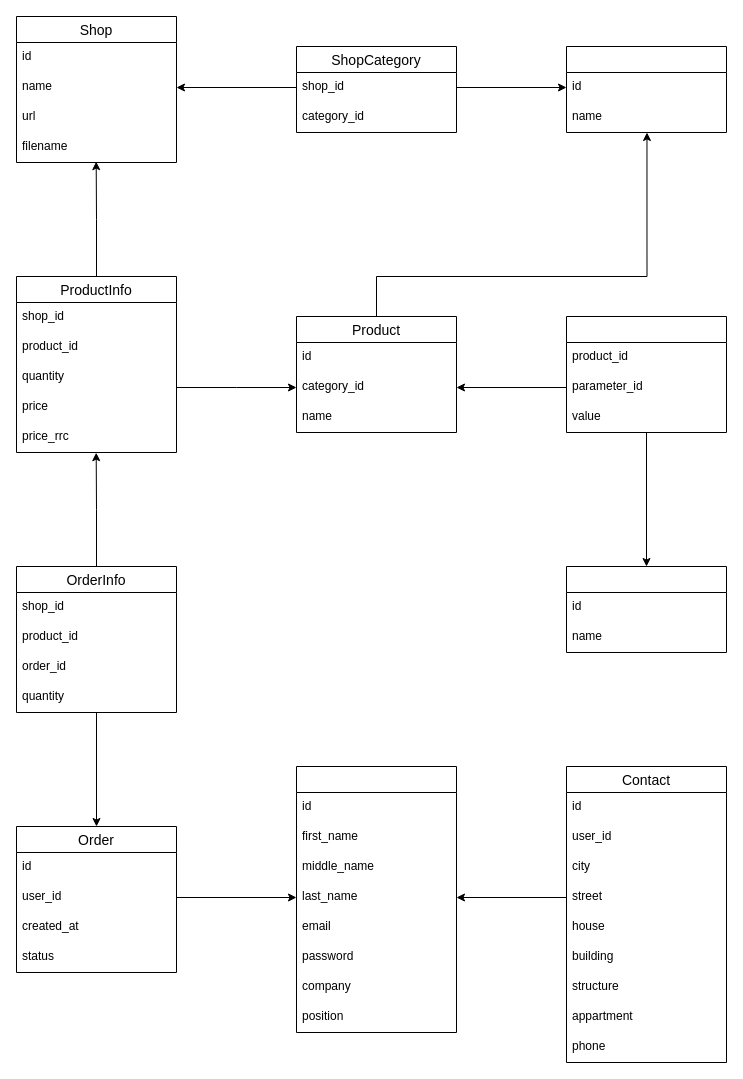
The diagram is 743 pixels wide and 1079 high, and some of its shapes have lost their labels. Each missing label, with the box of its shape:
Category: (566, 46, 726, 132)
Parameter: (566, 566, 726, 652)
ProductParameter: (566, 316, 726, 432)
User: (296, 766, 456, 1032)
